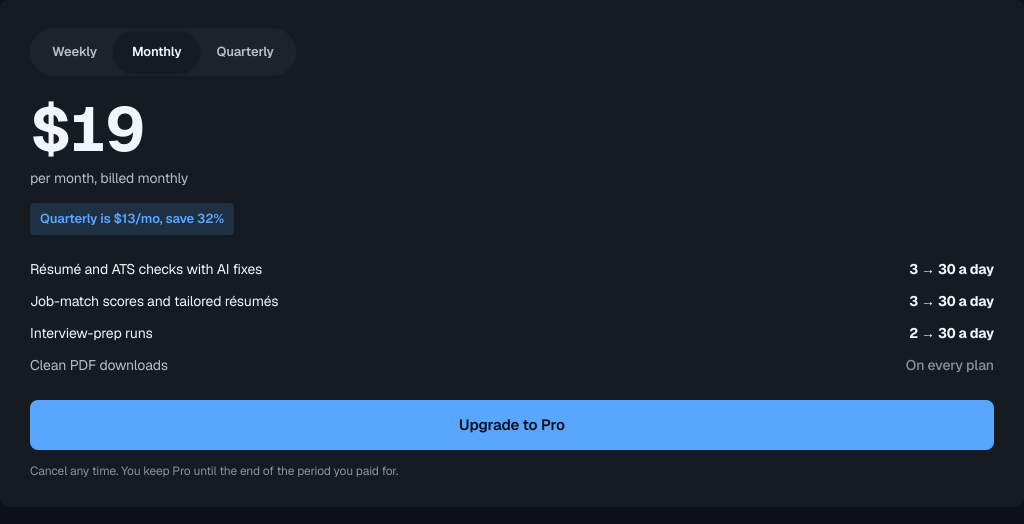
Scenario: PricingPlans weekly period › states the selected period's own cadence
The width and height of the screenshot is (1024, 524).
Click the button "Weekly" at (74, 52), box [34,32,115,72]
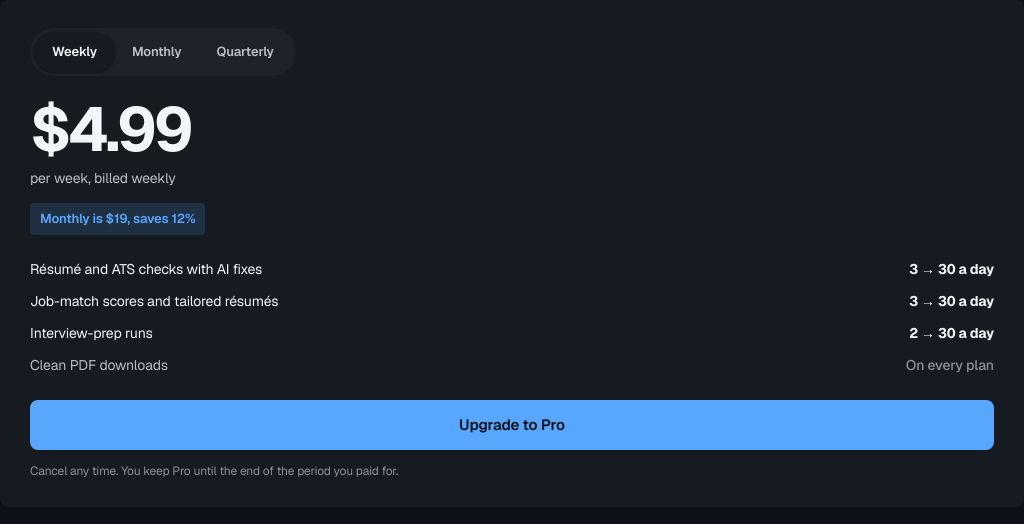
Expected: the text "billed every 3 months" is not shown
Result: the text "per week, billed weekly" is shown at [30,169,176,187]
Click the button "Quarterly" at (245, 52), box [198,32,292,72]
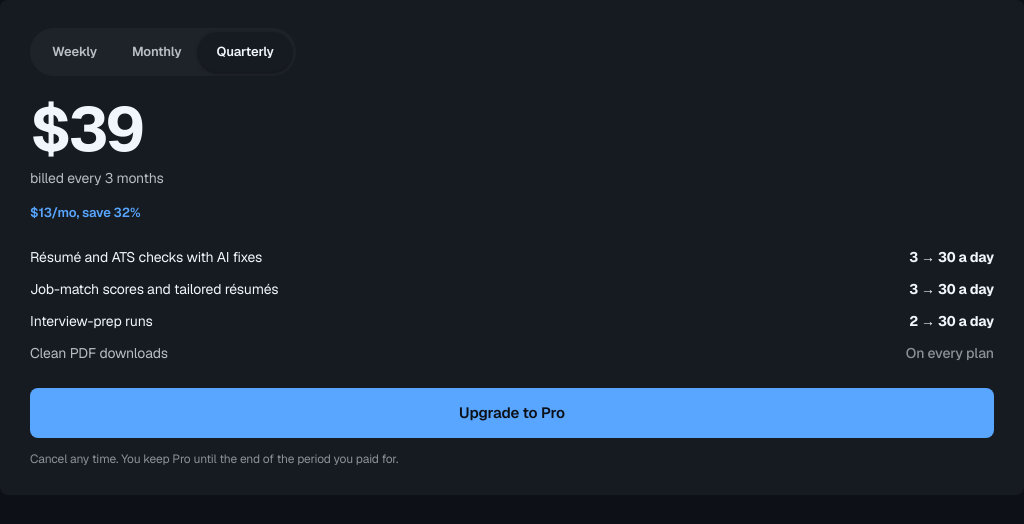
Result: the text "billed every 3 months" is shown at [30,169,164,187]
Result: the text "per week, billed weekly" is gone
